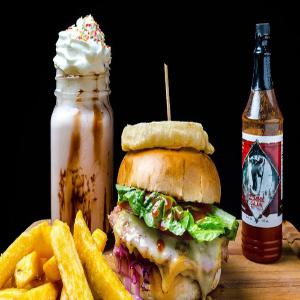cheeseburger: (119, 108, 238, 300)
fries: (4, 224, 120, 300)
